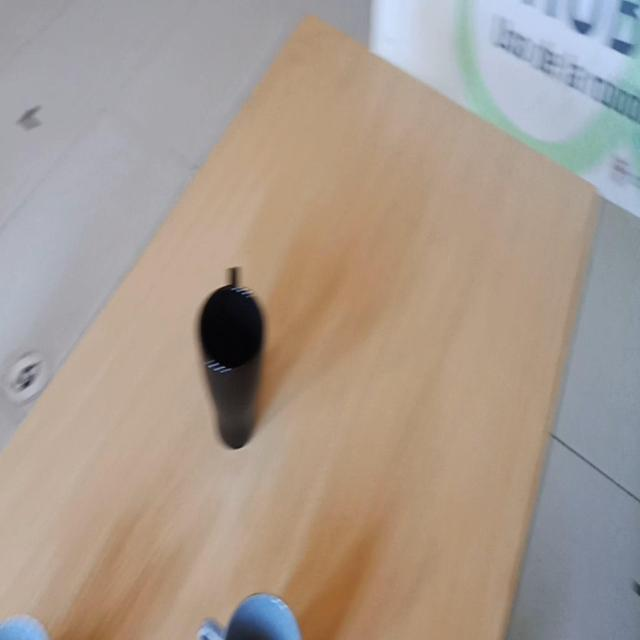cup: (194, 256, 271, 458)
